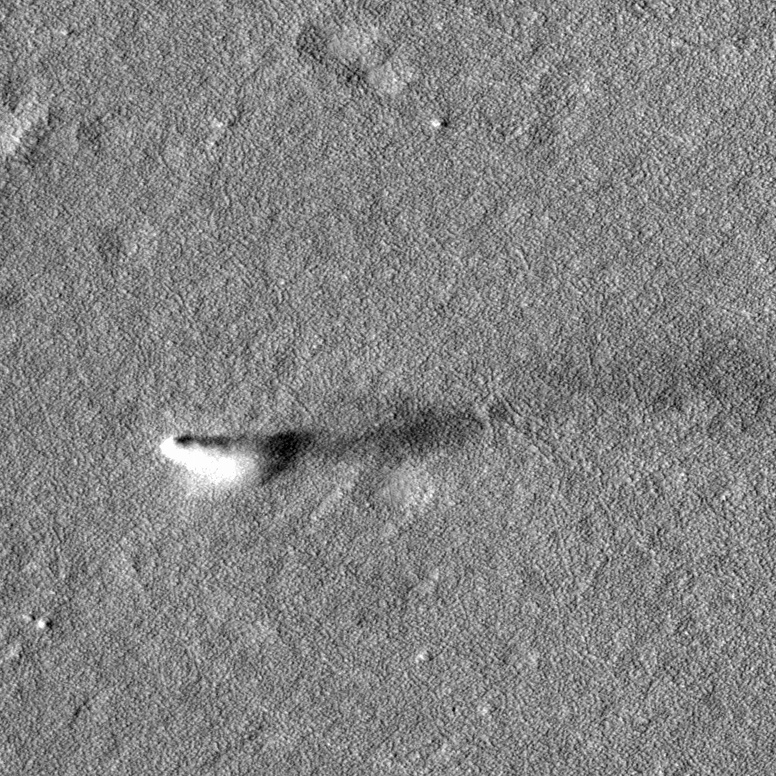dust_devil: (154, 401, 489, 492)
